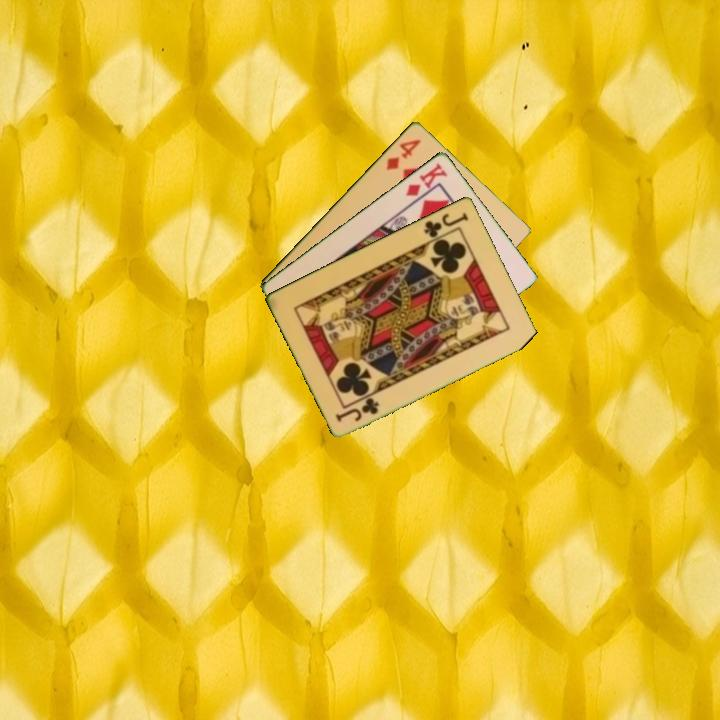4d: (382, 135, 424, 173)
Jc: (420, 208, 471, 241), (332, 394, 382, 424)
Kd: (402, 159, 450, 199)
